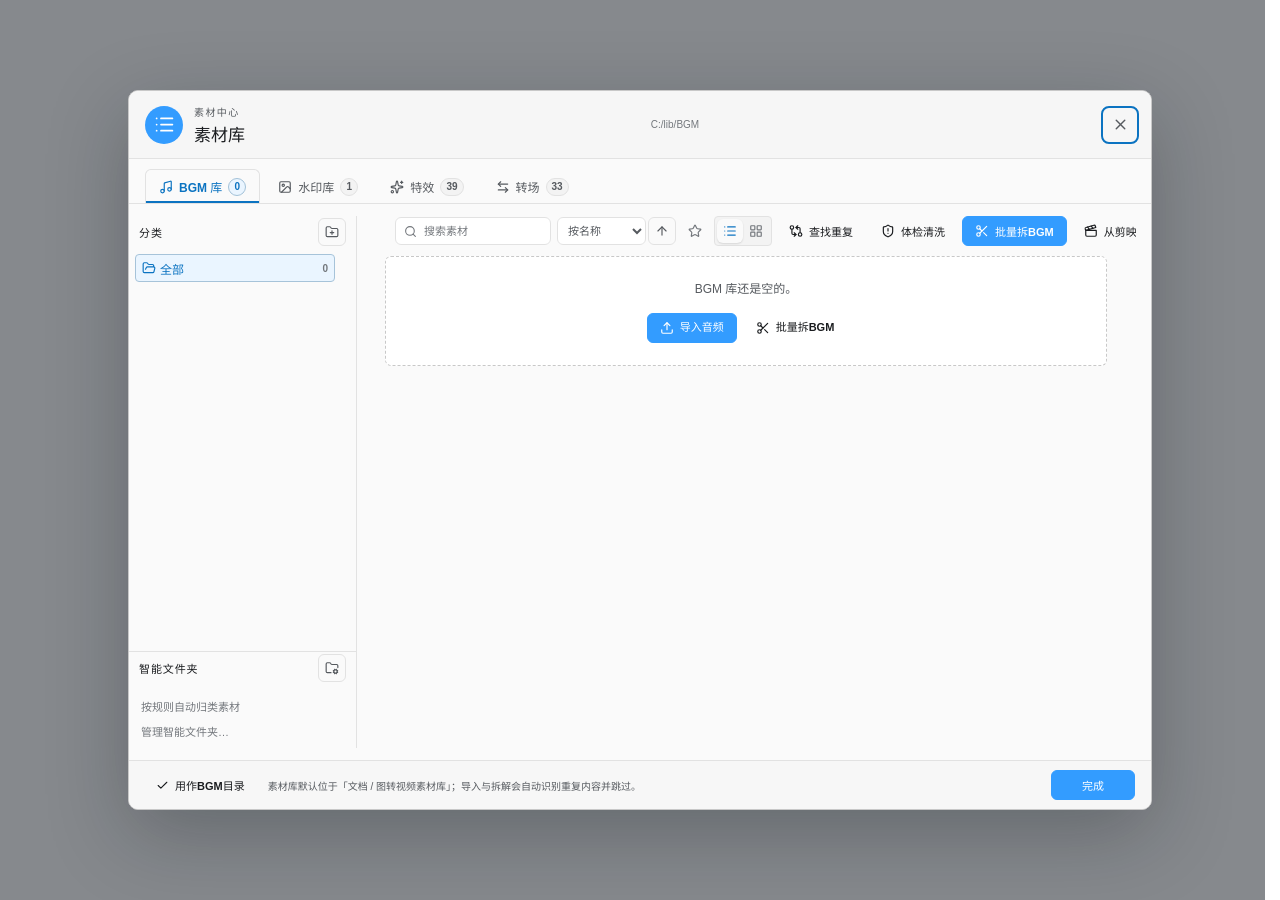
视频水印放大预览 › 点击视频预览空白处只关闭预览，不关闭素材库
Click the tab "水印库 1" at (318, 186), box [264,169,372,203]
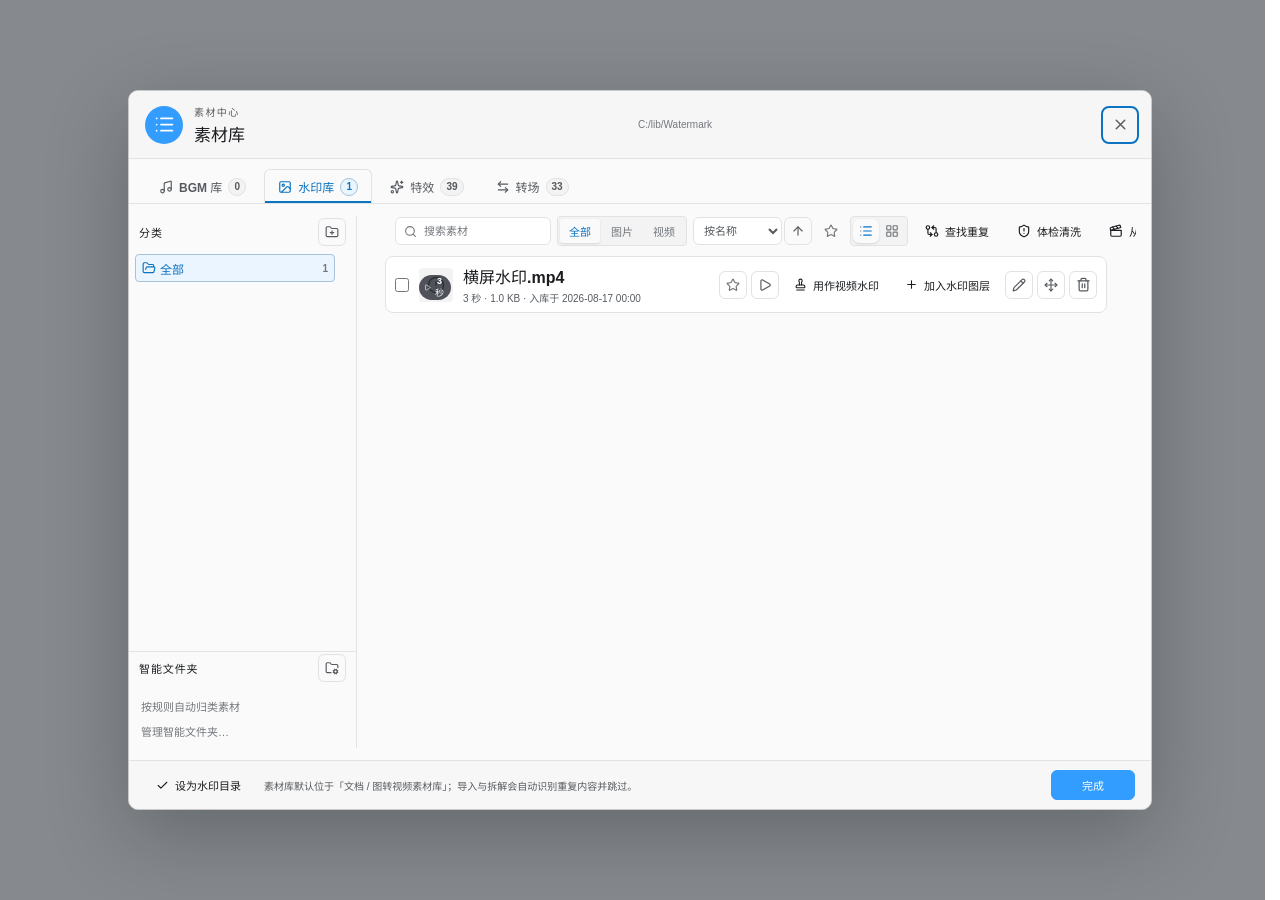
Click the button with class "library-thumb-play" at (436, 284), box [419,268,453,302]
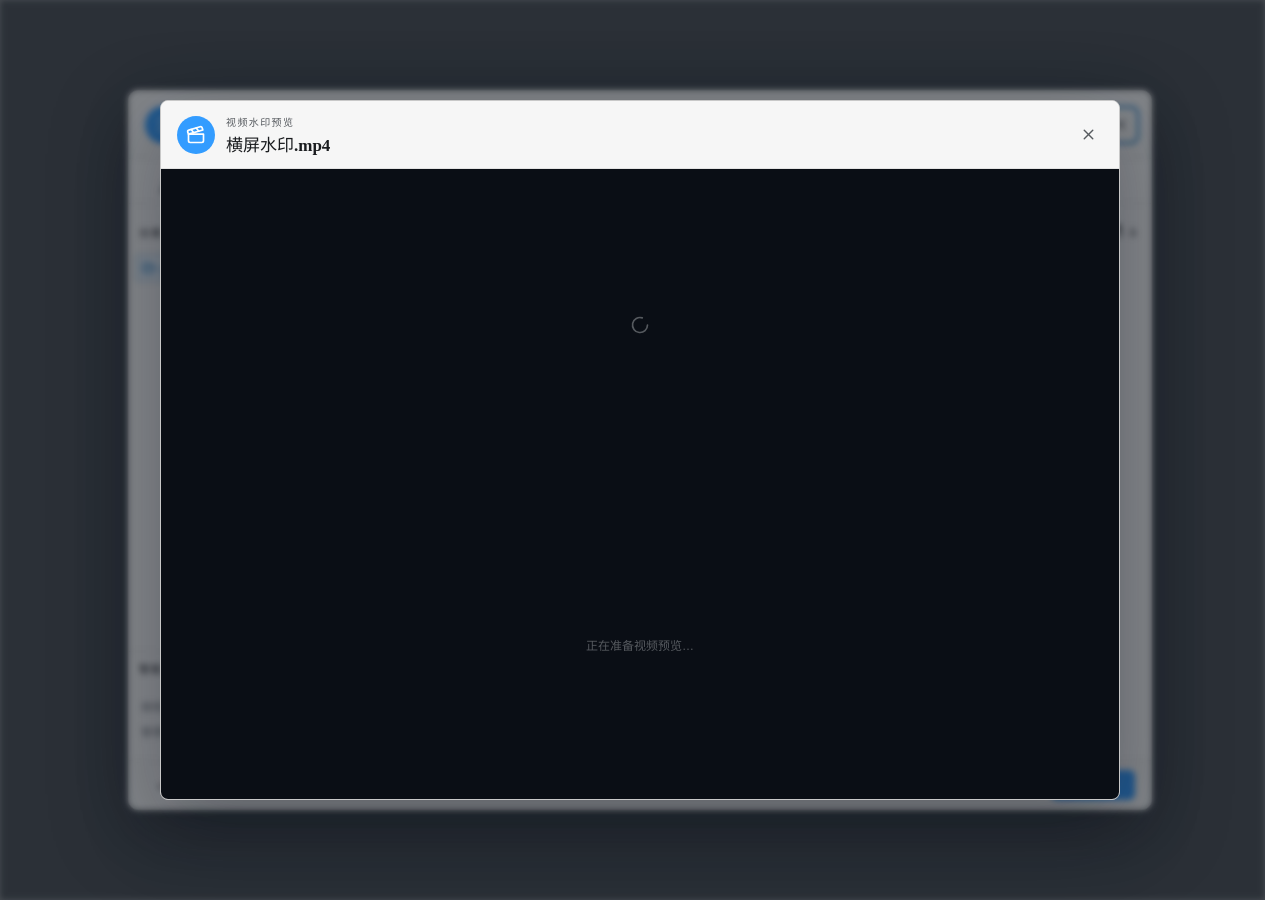
Expected: the dialog with class "library-video-player" is shown, [160,100,1120,800]
Expected: the element with class "library-video-backdrop" is shown
Press the mouse on the element with class "library-video-backdrop" at (640, 450), box [0,0,1279,899]
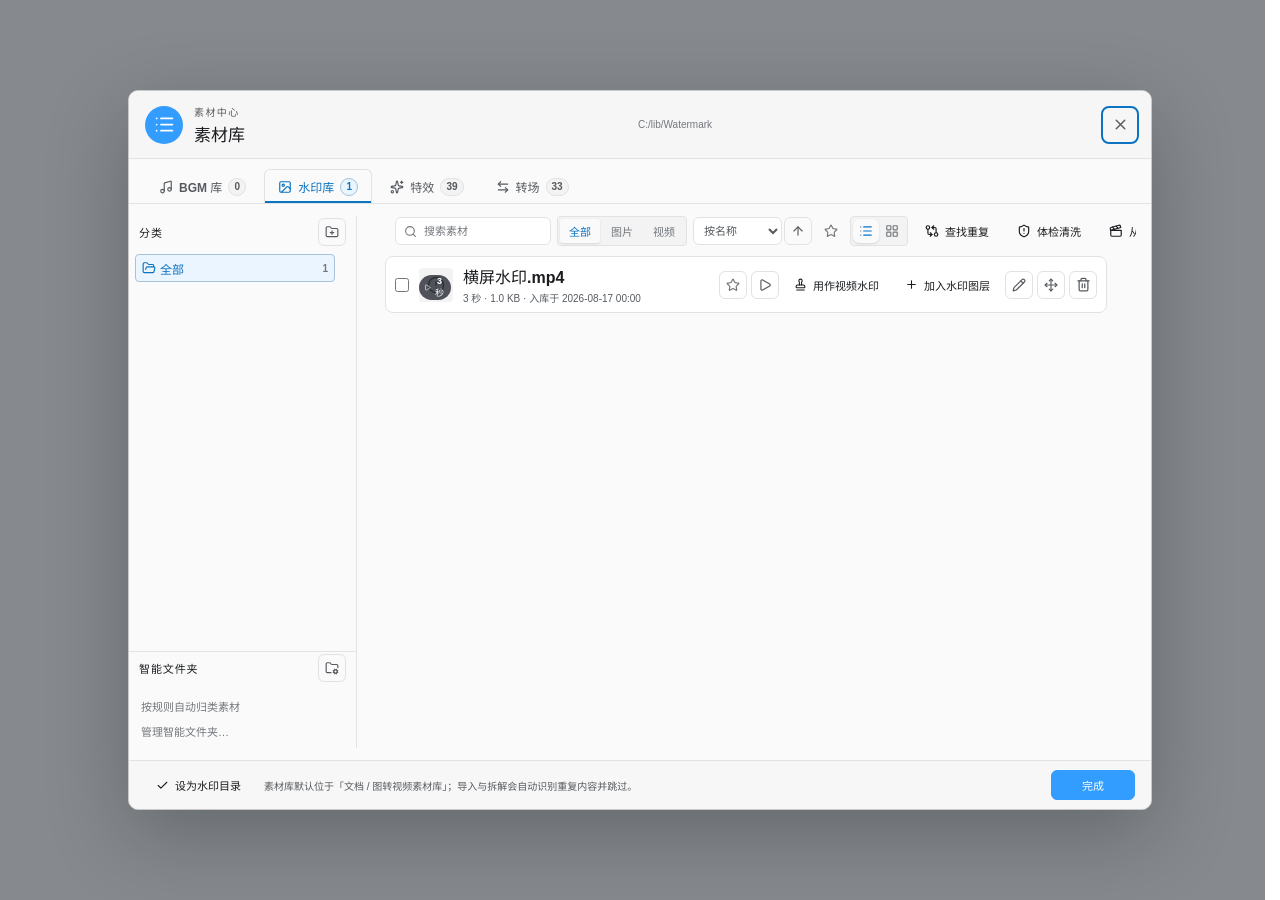
Expected: the dialog with class "library-video-player" is gone
